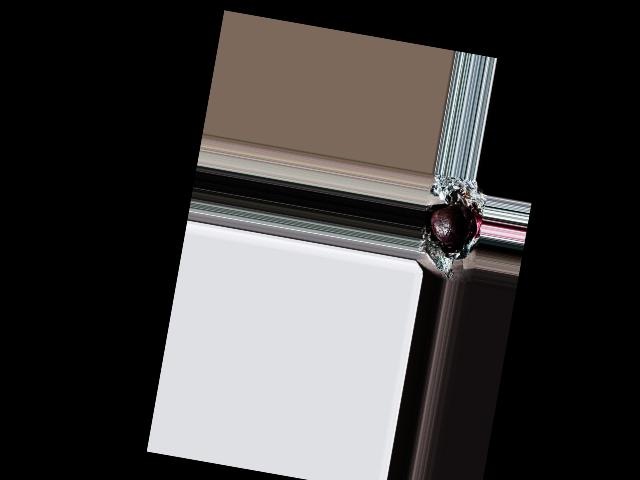beet: (427, 199, 473, 247)
